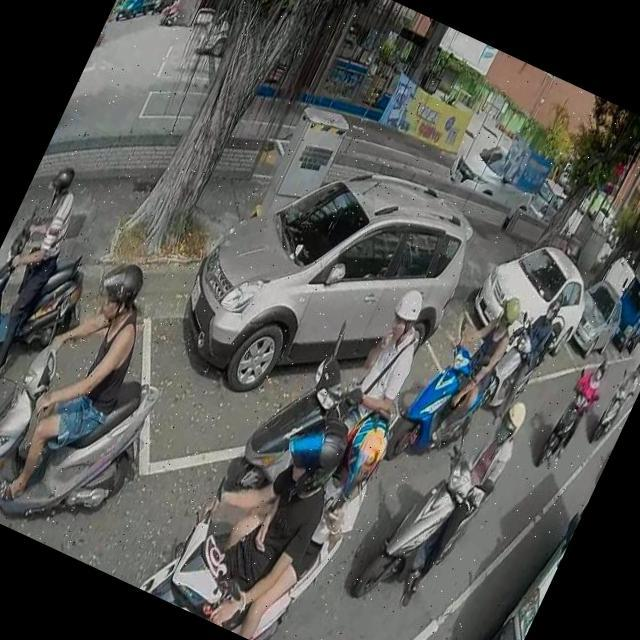person: (154, 385, 359, 640), (194, 384, 397, 640), (0, 237, 174, 530), (390, 380, 535, 622), (0, 151, 102, 391), (326, 281, 446, 448), (414, 276, 528, 451), (488, 292, 572, 426), (544, 353, 613, 460), (593, 356, 640, 442), (162, 0, 184, 23)
